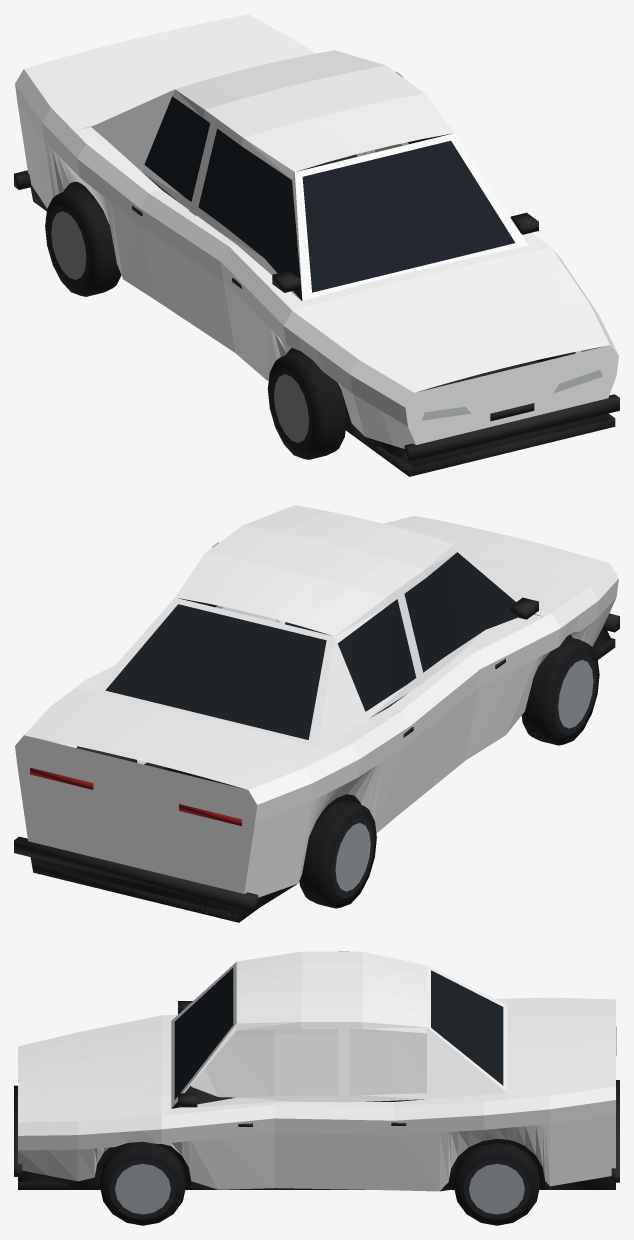
The model's file is ishigumo_fronteira.glb.
3 views of the same model, one above another, from view 1: azimuth 30°, elevation 25°; view 2: azimuth 150°, elevation 25°; view 3: azimuth 270°, elevation 25° (orthographic). The views are drawn at different scales.
Visible parts, largest first — view 1: Body_Paint, Body_Details, Mount_FrontLeft_Wheel_Details, Mount_RearLeft_Wheel_Details; view 2: Body_Paint, Body_Details, Mount_RearLeft_Wheel_Details, Mount_FrontLeft_Wheel_Details; view 3: Body_Paint, Body_Details, Mount_FrontRight_Wheel_Details, Mount_RearRight_Wheel_Details.
Part boxes in pixels (x1,y1,x2,y2): Body_Paint: (15, 14, 618, 448); Body_Details: (14, 96, 619, 476); Mount_FrontLeft_Wheel_Details: (267, 351, 346, 459); Mount_RearLeft_Wheel_Details: (45, 187, 121, 296); Body_Paint: (15, 505, 618, 897); Body_Details: (14, 552, 619, 922); Mount_RearLeft_Wheel_Details: (299, 800, 376, 908); Mount_FrontLeft_Wheel_Details: (521, 636, 599, 745); Body_Paint: (18, 951, 615, 1191); Body_Details: (14, 968, 619, 1191); Mount_FrontRight_Wheel_Details: (100, 1141, 185, 1225); Mount_RearRight_Wheel_Details: (453, 1143, 539, 1225).
Bounding box in the file's own units: 1.75 × 1.4 × 4.07.
Materials: 2 (1 with a texture image).
